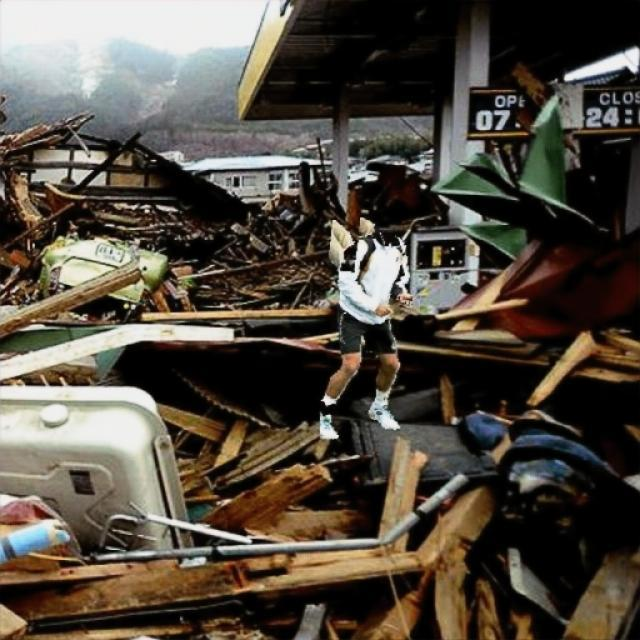Person in Rubble: (320, 217, 411, 438)
